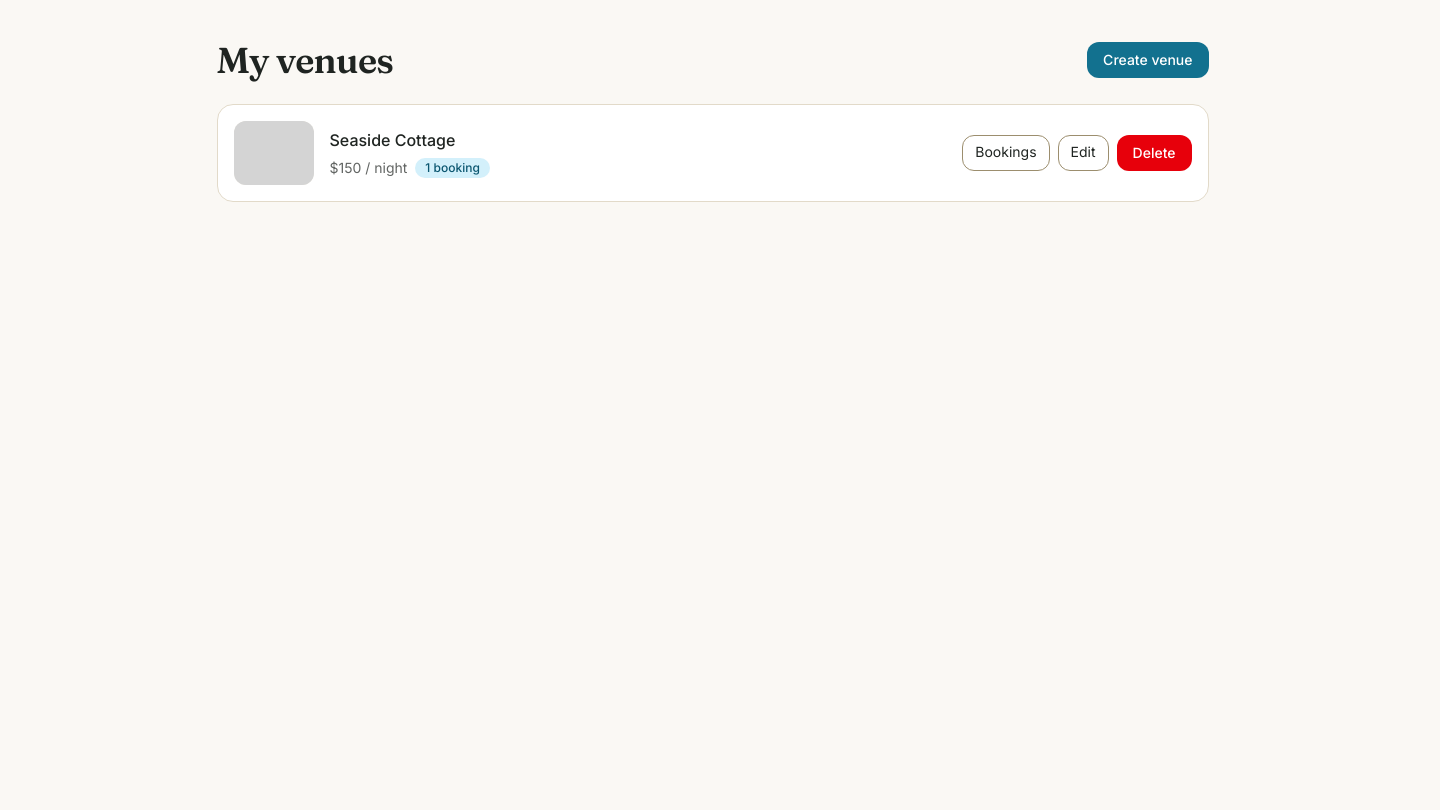
Scenario: ManagerVenuesPage › keeps the venue when the confirmation is dismissed
Click the button "Delete": (1154, 153) [1117,135,1192,171]
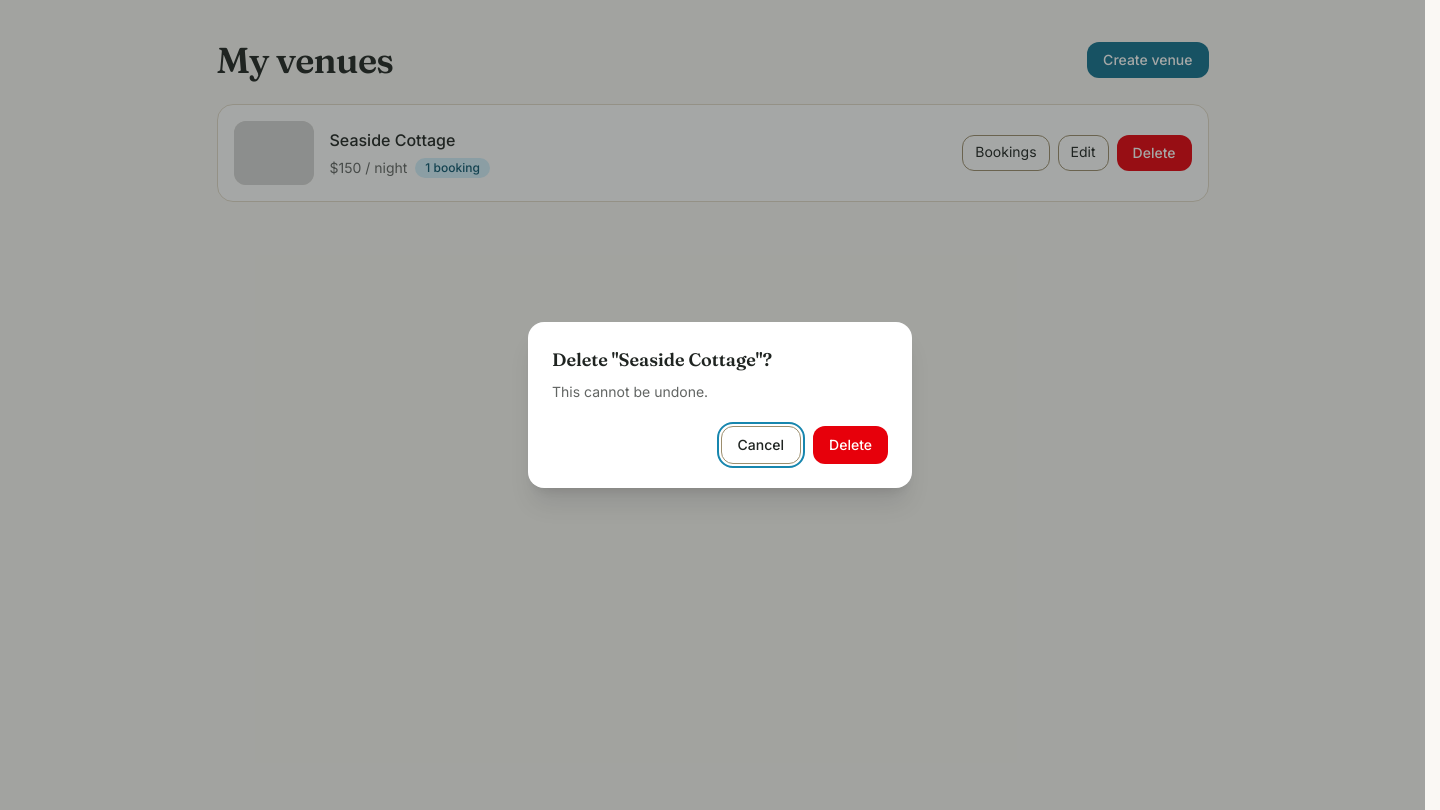
Click the button "Cancel": (761, 445) [721,426,801,464]
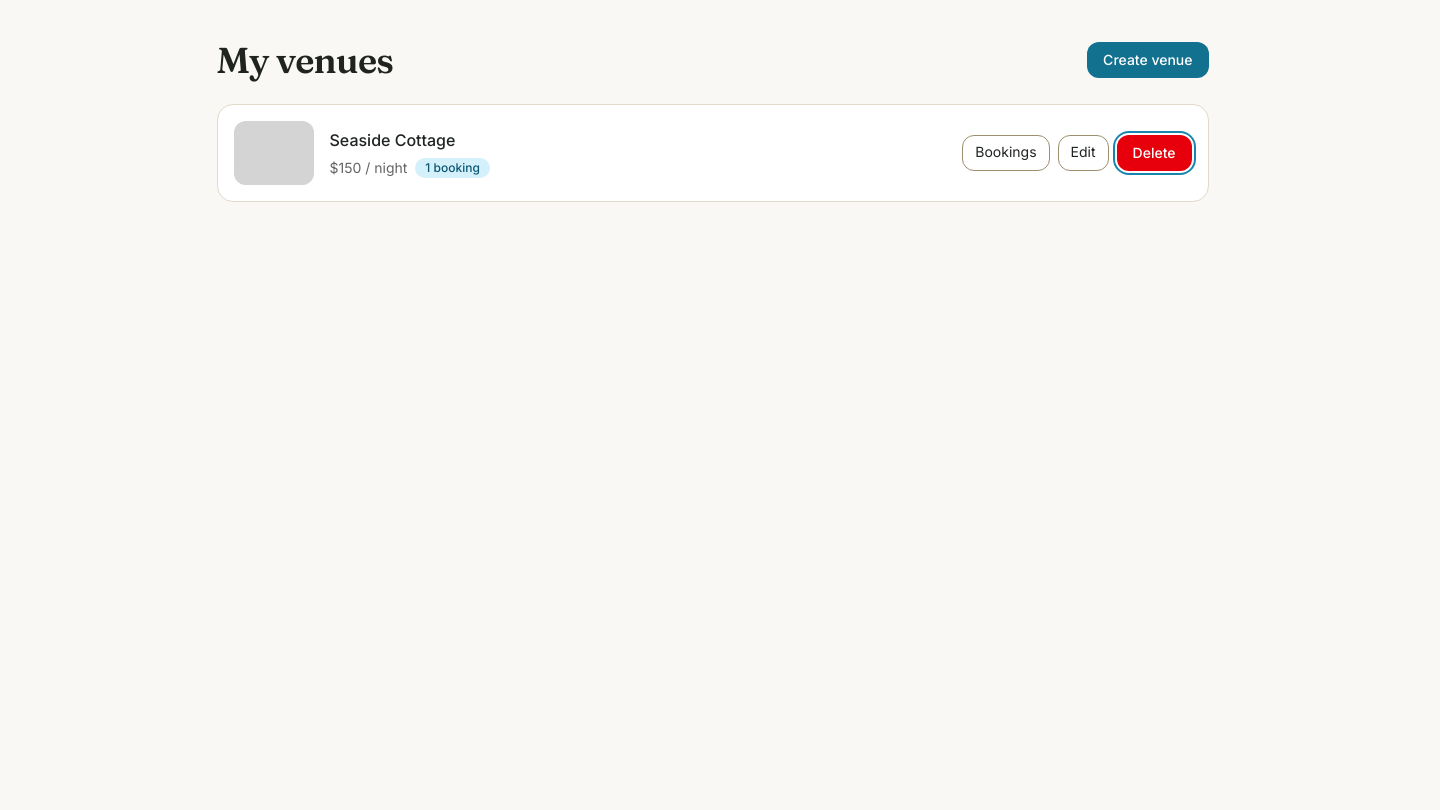
Expected: the link "Seaside Cottage" is shown, [330,130,455,150]
Expected: the dialog is gone
